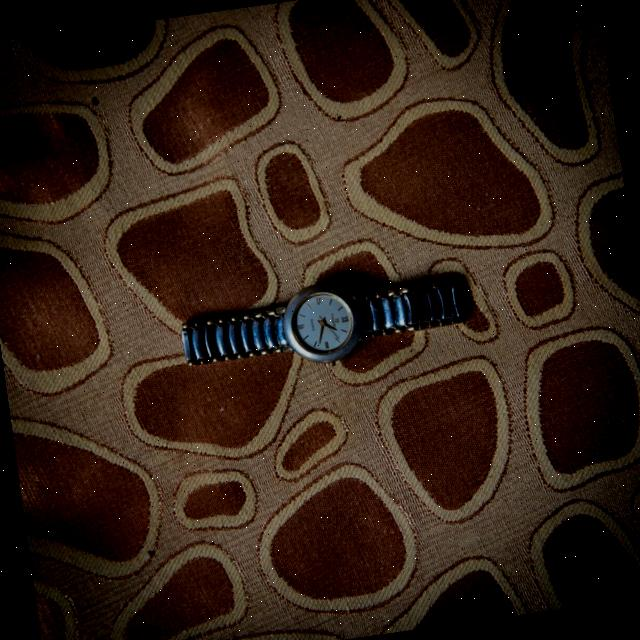Wrist watch: (177, 268, 473, 382)
